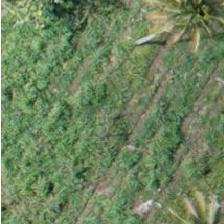Kelapa_Sawit: (149, 0, 224, 55)
